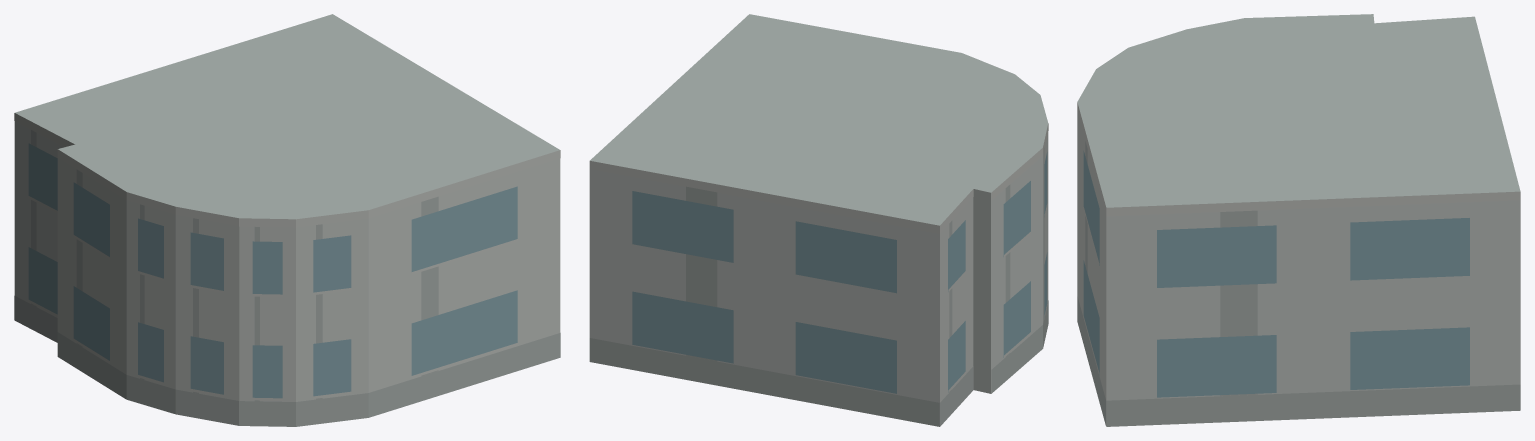
File: survey-upis-32607875.glb
The picture shows the model from 3 angles, left to right: view 1: azimuth 30°, elevation 25°; view 2: azimuth 150°, elevation 25°; view 3: azimuth 270°, elevation 25°; orthographic projection. The views are drawn at different scales.
Parts seen in each view (by area): view 1: survey-upis-32607875.tmp; view 2: survey-upis-32607875.tmp; view 3: survey-upis-32607875.tmp.
Boxes of the visible parts, left/top/right/bottom form: survey-upis-32607875.tmp: left=14, top=14, right=560, bottom=426; survey-upis-32607875.tmp: left=589, top=14, right=1048, bottom=426; survey-upis-32607875.tmp: left=1077, top=14, right=1520, bottom=426.
Bounding box in the file's own units: 11.58 × 6.1 × 11.19.
